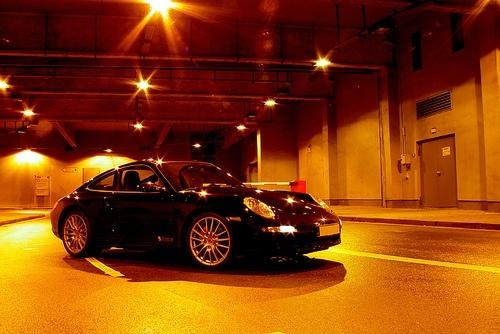car: (49, 160, 343, 265)
